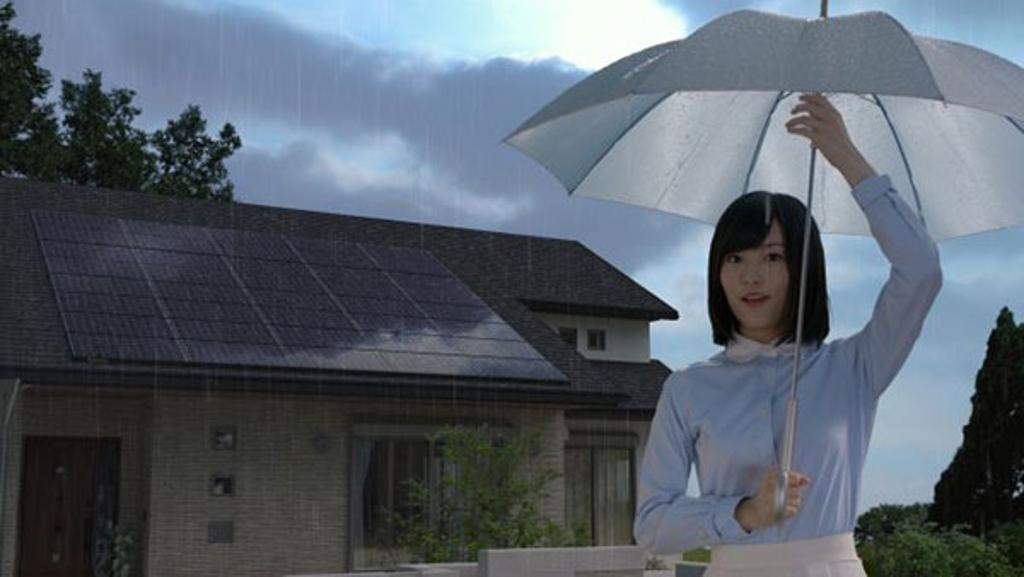face: (722, 212, 794, 328)
